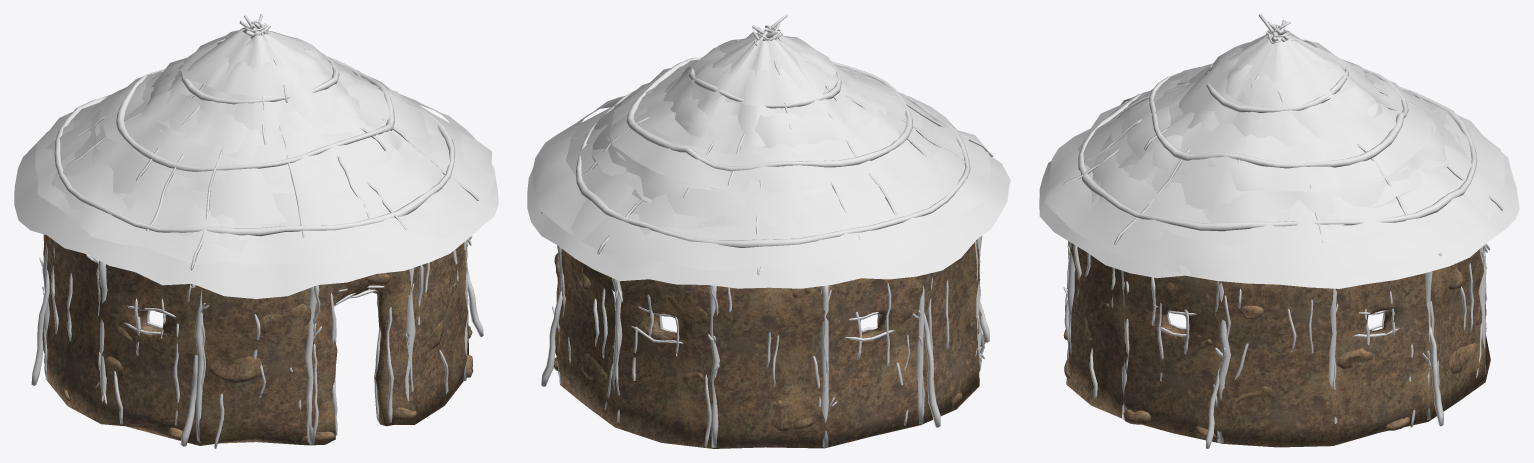
Rendered from midpoly_african_hut_001.fbx.
3 views of the same model, side by side, from view 1: azimuth 30°, elevation 25°; view 2: azimuth 150°, elevation 25°; view 3: azimuth 270°, elevation 25° (orthographic).
Visible parts, largest first — view 1: midpoly_african_hut_001; view 2: midpoly_african_hut_001; view 3: midpoly_african_hut_001.
Boxes of the visible parts, box(x1,y1,x2,y2) form: midpoly_african_hut_001: box(14, 14, 498, 448); midpoly_african_hut_001: box(527, 14, 1010, 448); midpoly_african_hut_001: box(1039, 14, 1519, 448).
Bounding box in the file's own units: 455 × 360 × 457.
